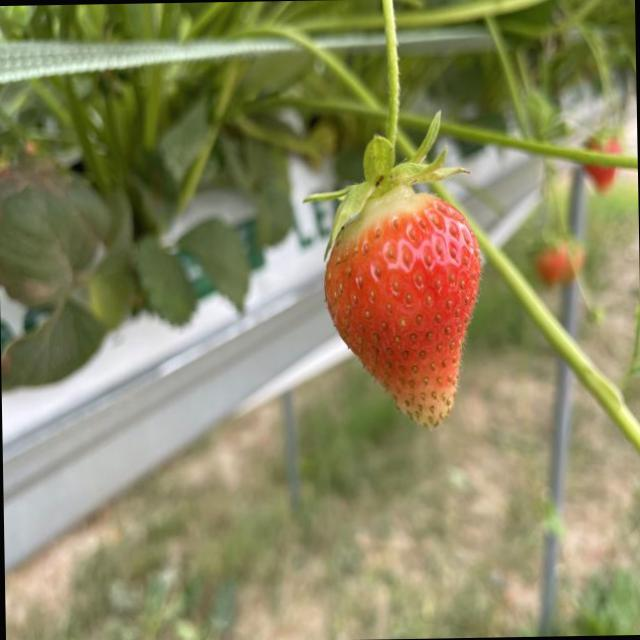stem: (306, 0, 461, 245)
strawberryR: (324, 187, 480, 424)
